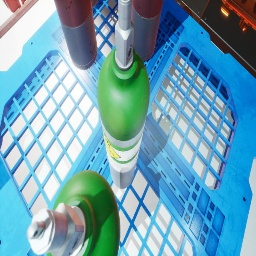0: (97, 0, 150, 189), (26, 170, 121, 256)
FirstAidBox ,: (2, 0, 26, 13)
NitrogenTank ,: (54, 0, 97, 70), (131, 0, 163, 61), (91, 0, 98, 8)
